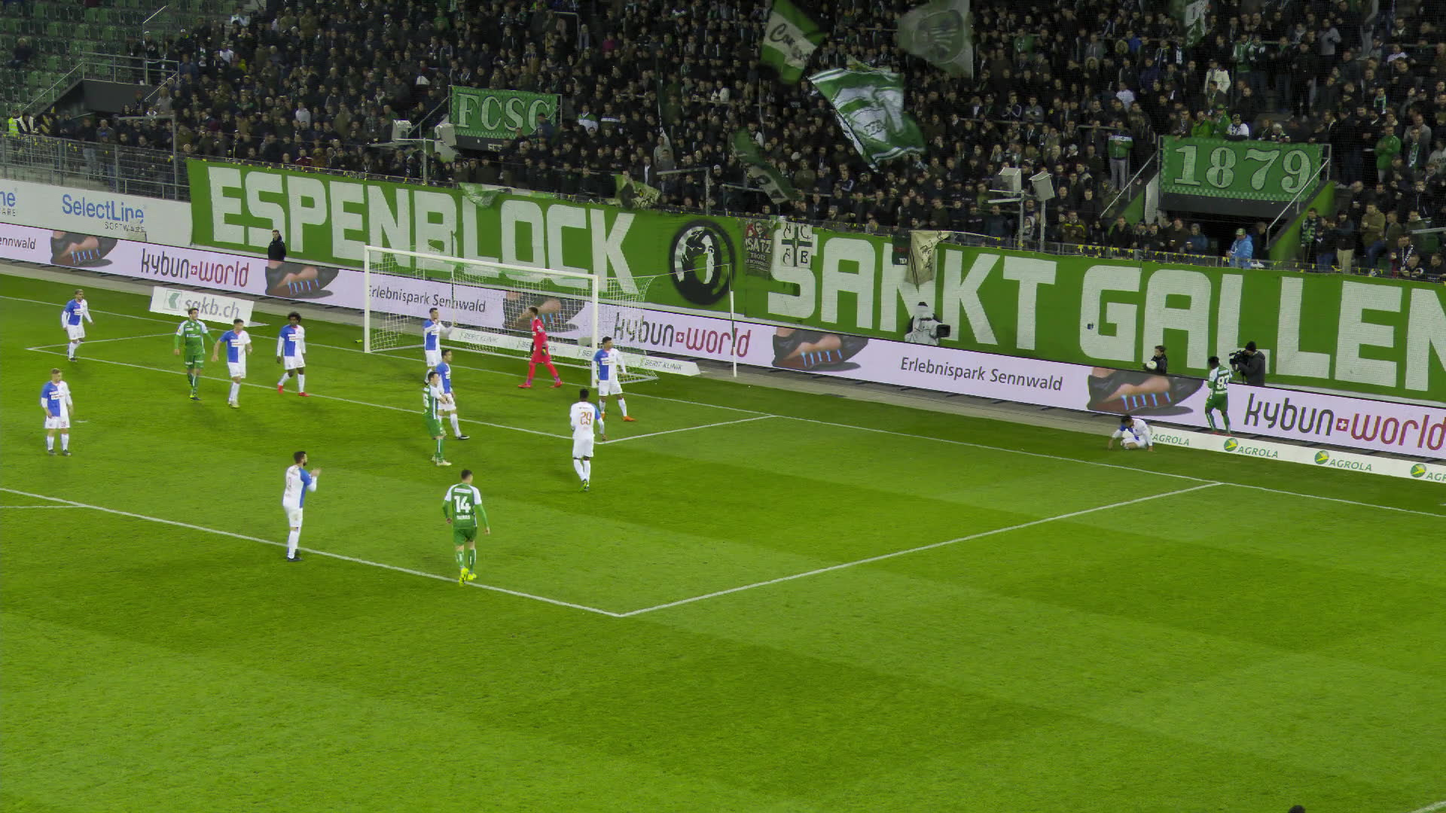player: (441, 468, 489, 583), (275, 452, 321, 562), (172, 308, 218, 400), (568, 388, 606, 495), (212, 320, 256, 407), (593, 334, 633, 422), (274, 312, 314, 397), (523, 304, 562, 389), (41, 367, 75, 457), (421, 370, 451, 466), (420, 307, 450, 391), (1205, 357, 1235, 437), (63, 290, 95, 364), (432, 349, 458, 439), (1106, 413, 1155, 452)
